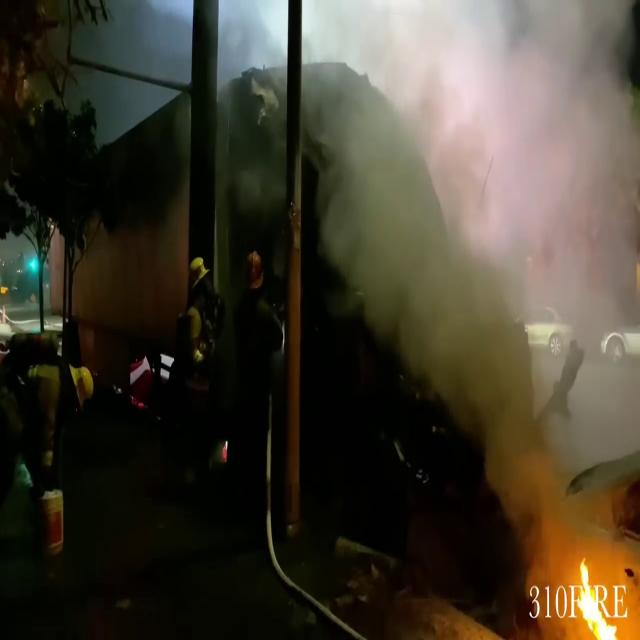Fire: (563, 556, 635, 638)
Smoke: (313, 0, 639, 560)
